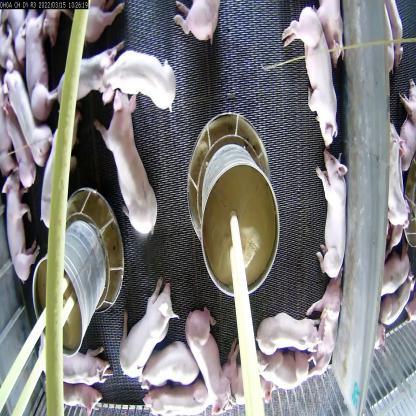Pig: (94, 80, 168, 241), (279, 4, 345, 147), (119, 265, 178, 384), (97, 42, 181, 116), (183, 301, 237, 414), (313, 148, 354, 278), (1, 166, 44, 285), (40, 324, 116, 391), (18, 5, 62, 120), (305, 263, 344, 384), (21, 7, 62, 117), (221, 326, 275, 408), (385, 106, 413, 238), (136, 334, 202, 390), (252, 341, 319, 393), (251, 304, 320, 354), (377, 268, 416, 333), (44, 373, 109, 412), (142, 380, 213, 414), (173, 0, 221, 48), (396, 70, 416, 174)
